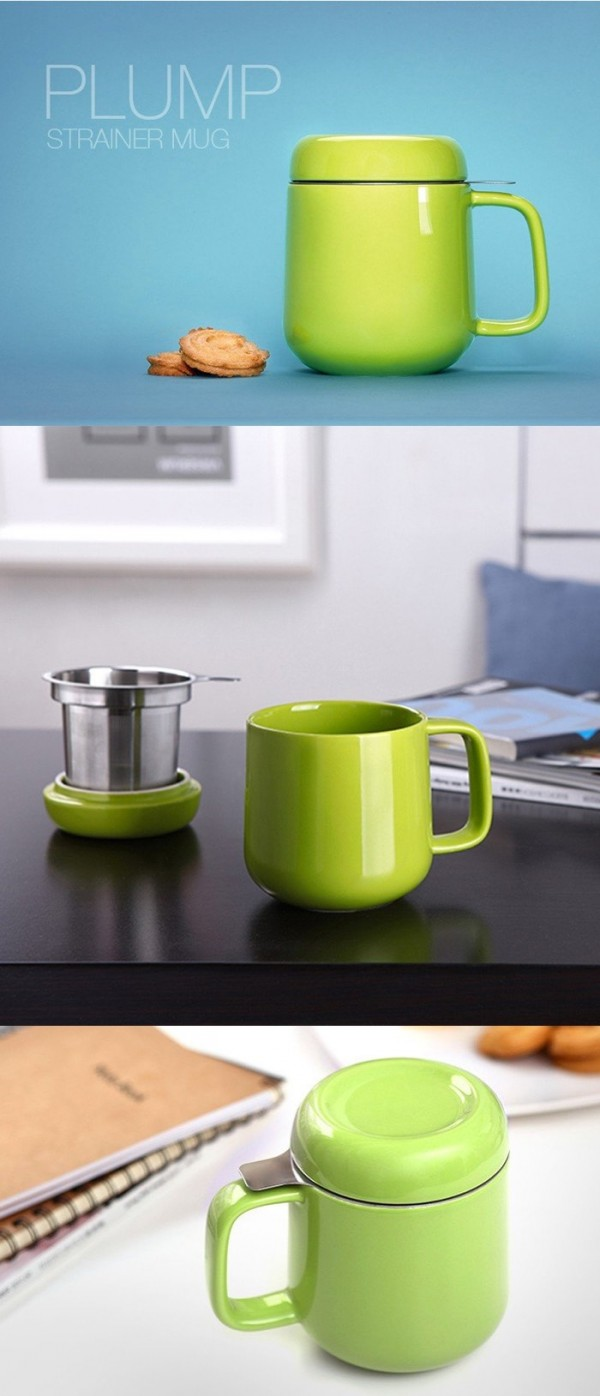cup: (192, 1049, 525, 1381), (236, 681, 510, 925)
